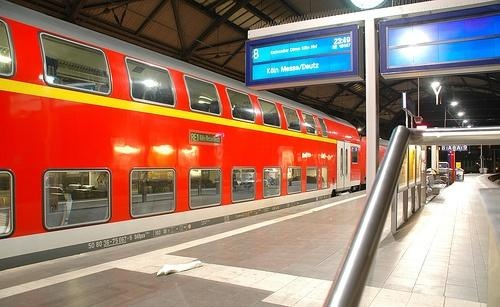train: (1, 1, 391, 273)
